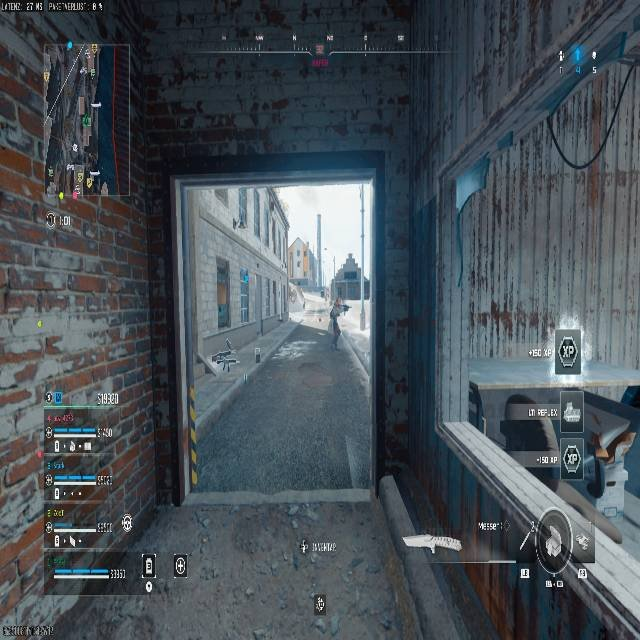head: (334, 297, 341, 306)
player: (329, 251, 364, 335), (328, 298, 349, 350)
